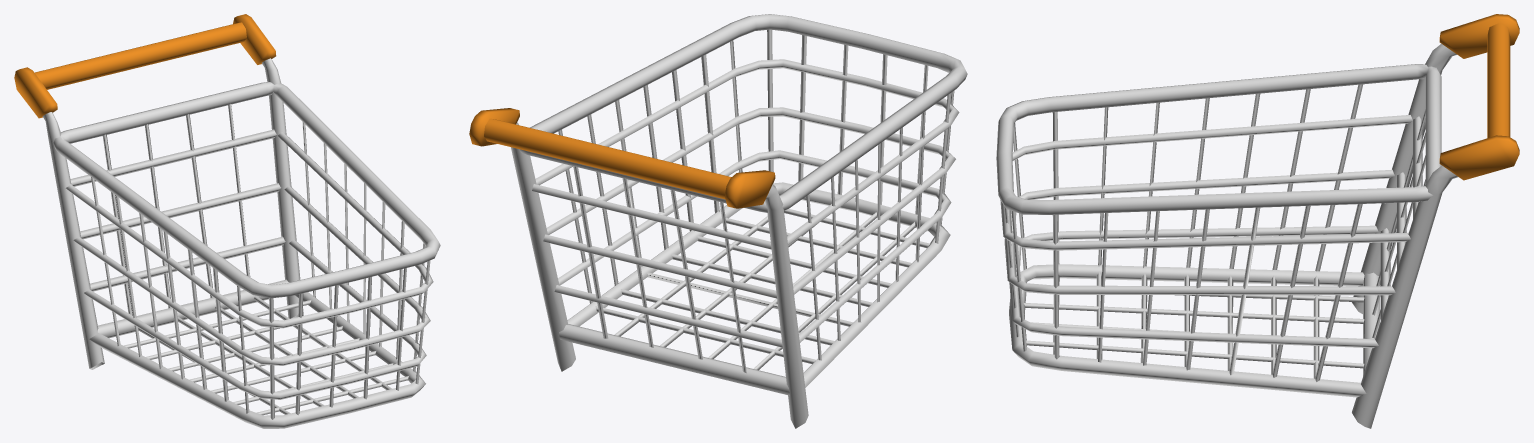
File: GouWuChen.glb
The picture shows the model from 3 angles, left to right: view 1: azimuth 30°, elevation 25°; view 2: azimuth 150°, elevation 25°; view 3: azimuth 270°, elevation 25°; orthographic projection. The views are drawn at different scales.
Visible parts, largest first — view 1: Mesh_2; view 2: Mesh_2; view 3: Mesh_2.
Part boxes in pixels (<box>): Mesh_2: <box>14,14,440,428</box>; Mesh_2: <box>469,14,967,428</box>; Mesh_2: <box>996,14,1519,428</box>.
Bounding box in the file's own units: 0.0774 × 0.0826 × 0.132.
